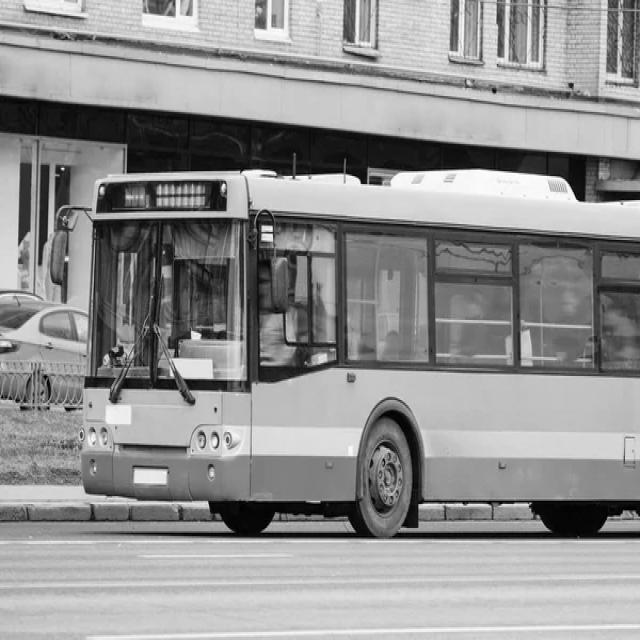Bus: (72, 165, 640, 546)
Car: (4, 295, 94, 415)
